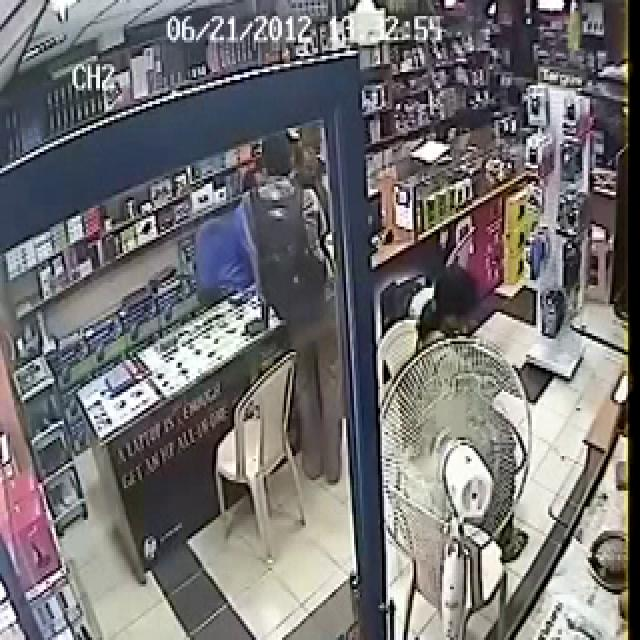shoplifting: (215, 98, 551, 602)
